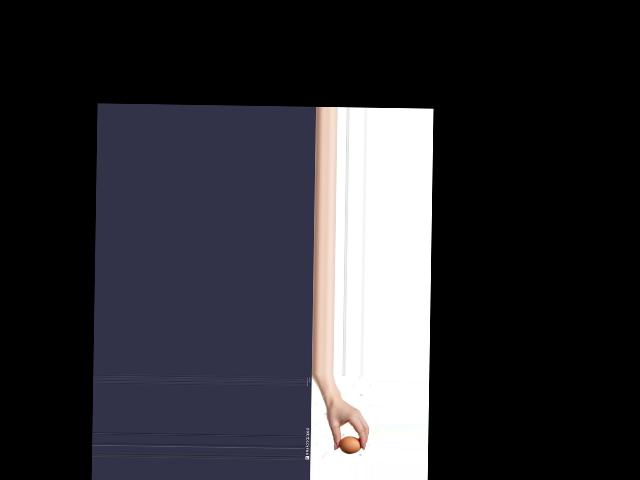egg: (339, 435, 361, 453)
